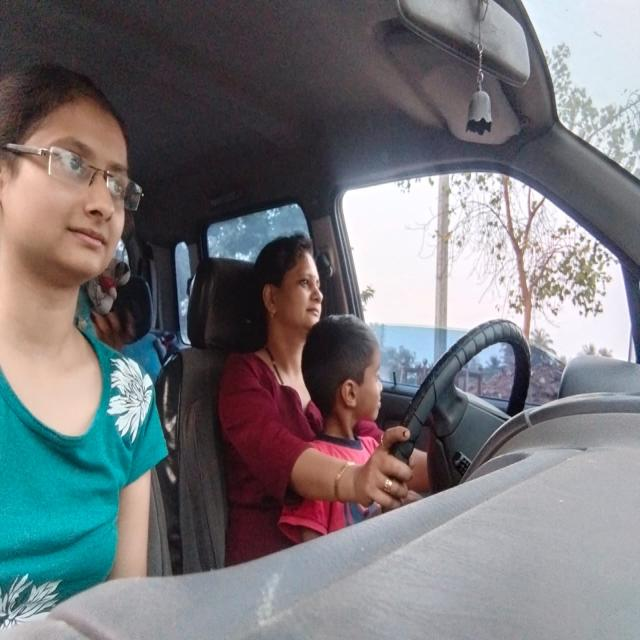child: (300, 304, 390, 429)
person: (0, 41, 156, 346), (255, 210, 342, 334)
